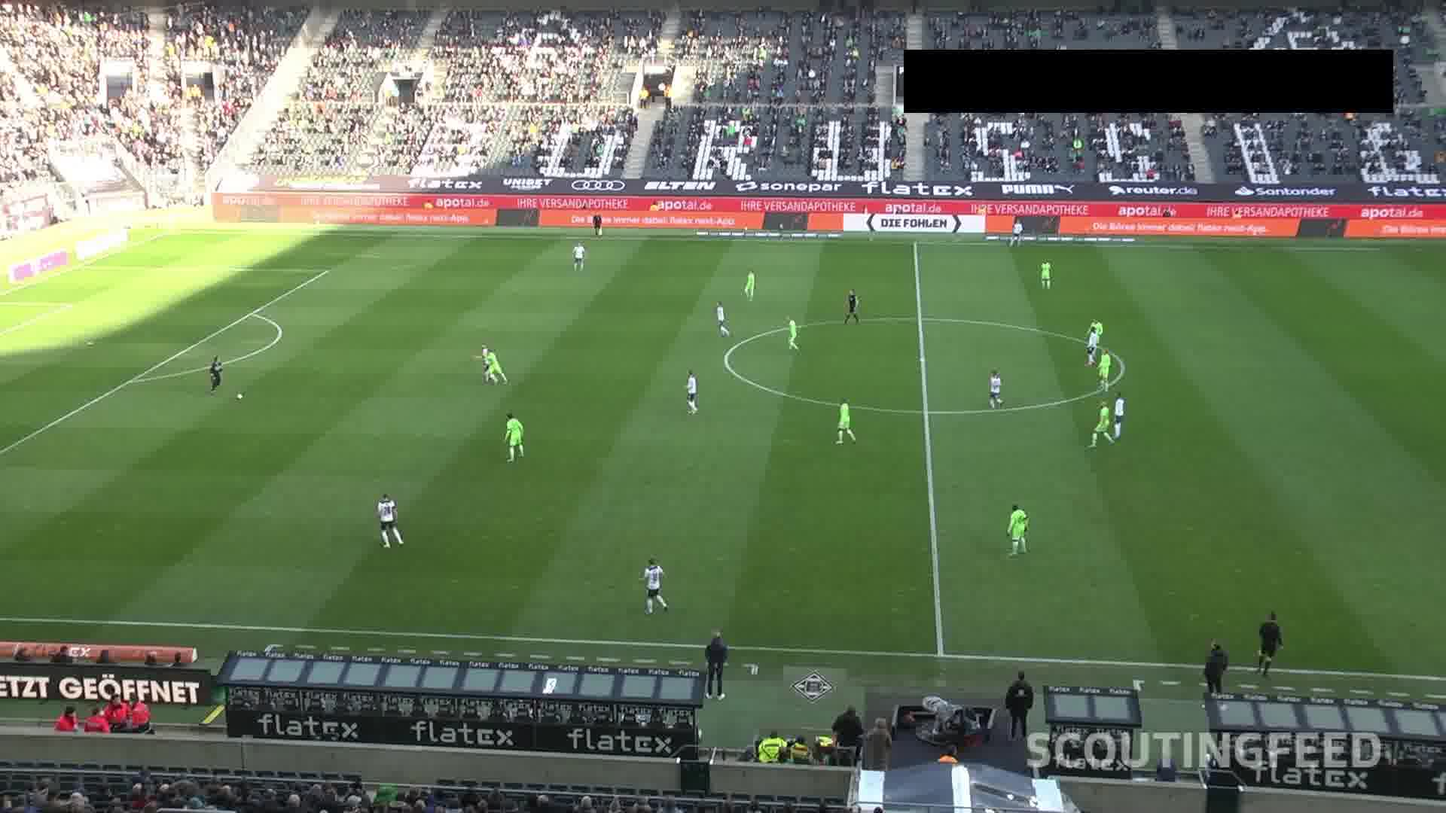ball: (230, 388, 247, 406)
coach_staff: (999, 661, 1039, 738), (695, 629, 733, 698), (1191, 630, 1226, 704)
goalkeeper: (198, 351, 227, 399)
player: (995, 499, 1042, 562), (370, 487, 409, 556), (631, 552, 669, 612), (828, 394, 857, 449), (973, 368, 1012, 406), (1111, 393, 1143, 435), (1086, 399, 1111, 450), (678, 366, 702, 415), (488, 351, 516, 389), (505, 414, 526, 464), (734, 265, 763, 301), (708, 301, 737, 337), (1091, 350, 1117, 389), (778, 315, 803, 354), (1032, 260, 1058, 296), (468, 341, 491, 381), (1091, 316, 1113, 349), (1083, 324, 1098, 361), (1009, 217, 1024, 251), (571, 241, 586, 274)
referee: (1251, 605, 1280, 685), (836, 286, 867, 329), (591, 208, 608, 245)
